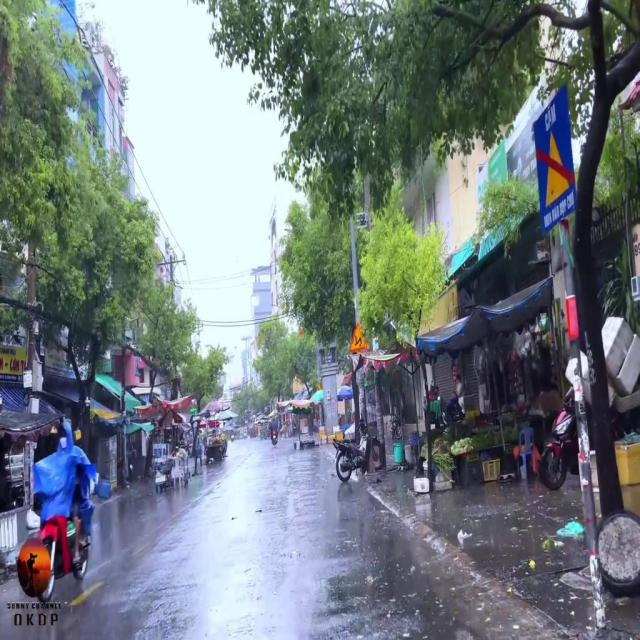cho_ngoat_nguy_hiem_lien_tiep: (350, 321, 368, 352)
